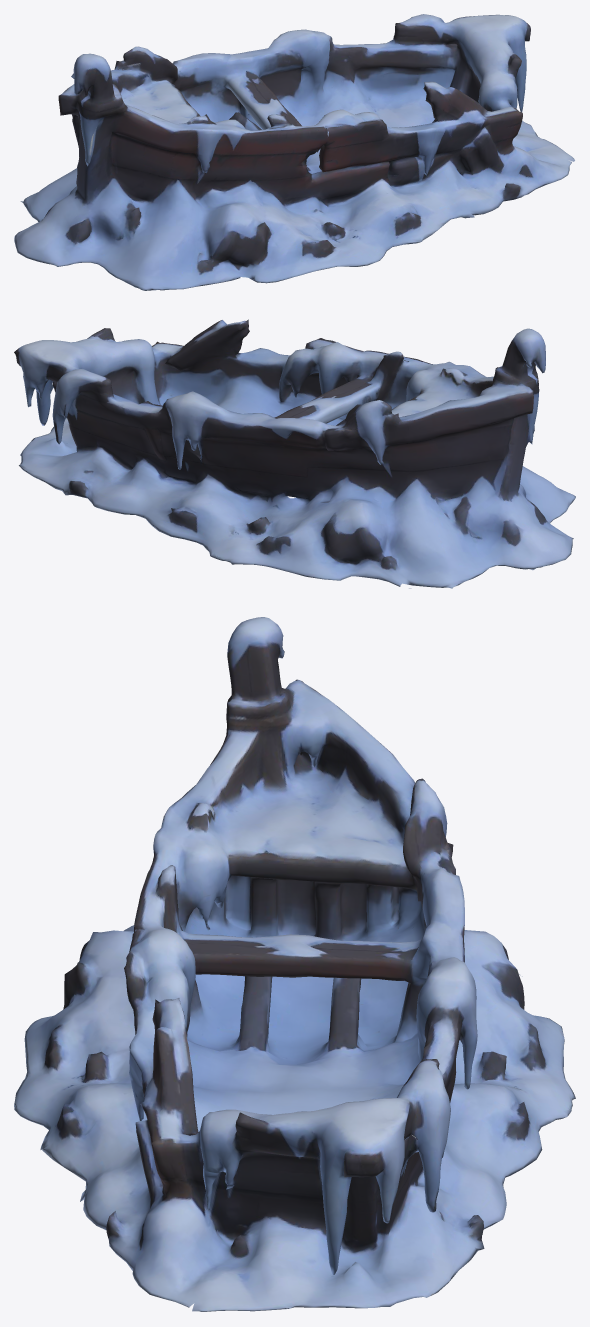
The model's file is ice_floe.glb.
The picture shows the model from 3 angles, top to bottom: view 1: azimuth 30°, elevation 25°; view 2: azimuth 150°, elevation 25°; view 3: azimuth 270°, elevation 25°; orthographic projection. The views are drawn at different scales.
Visible parts, largest first — view 1: tripo_node_dc67dcd5; view 2: tripo_node_dc67dcd5; view 3: tripo_node_dc67dcd5.
Part boxes in pixels (x1,y1,x2,y2): tripo_node_dc67dcd5: [14, 14, 574, 290]; tripo_node_dc67dcd5: [14, 319, 575, 588]; tripo_node_dc67dcd5: [14, 617, 575, 1311].
Bounding box in the file's own units: 99.49 × 37.29 × 57.53.
1 material, 1 textured.
